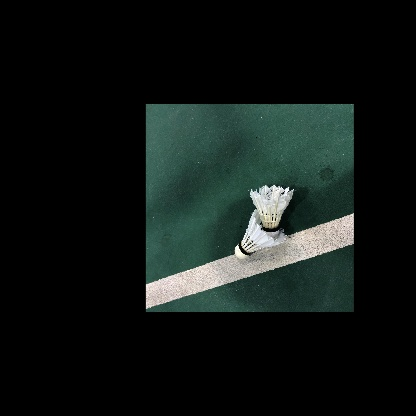ball_single: (234, 185, 294, 259)
